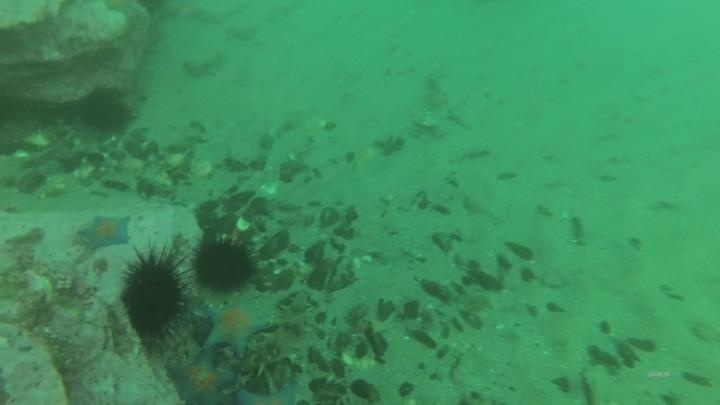echinus: (118, 248, 189, 346), (189, 234, 259, 296), (78, 86, 134, 137)
holothurian: (250, 289, 319, 378), (179, 50, 227, 82)
starfish: (195, 297, 274, 357), (163, 350, 238, 405), (75, 212, 132, 253), (235, 379, 304, 405)
